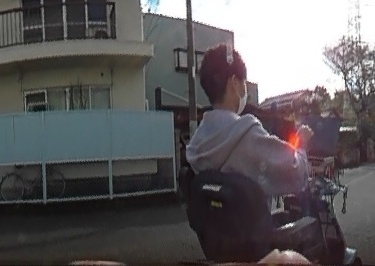person: (186, 42, 307, 258)
